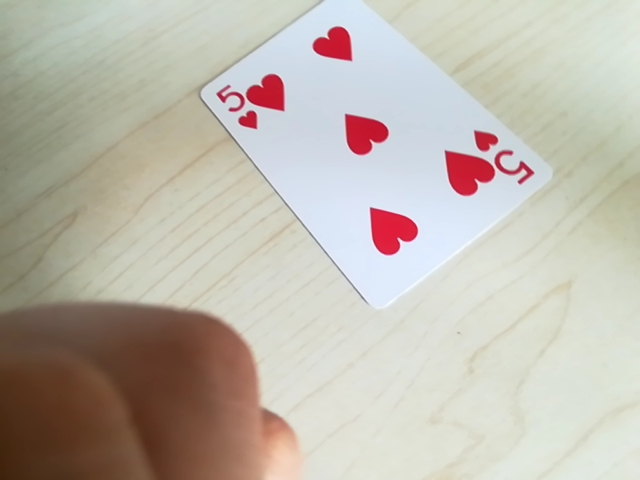hx 5: (475, 132, 538, 188), (208, 82, 264, 131)
